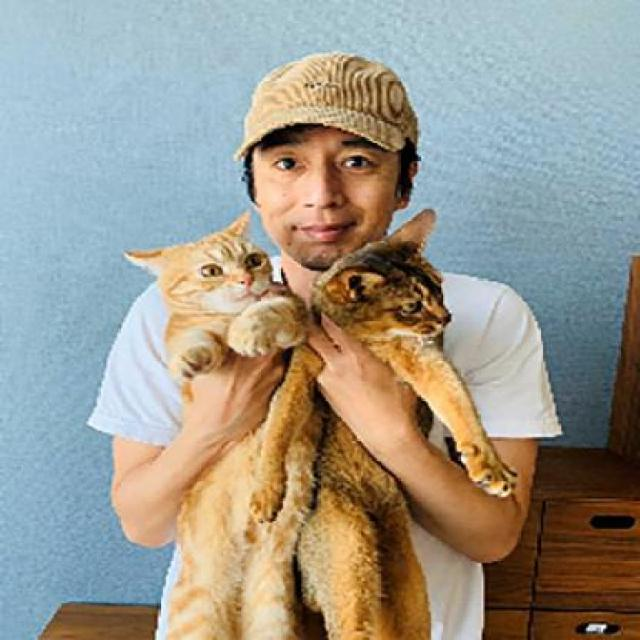cat: (303, 206, 519, 639), (124, 206, 313, 640)
